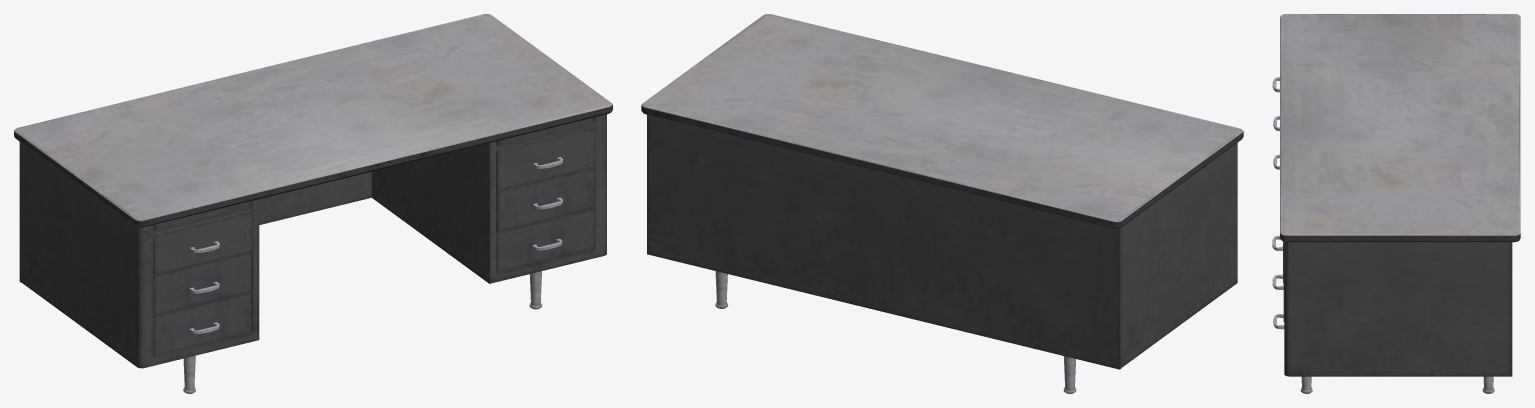
Rendered from office_desk.glb.
3 views of the same model, side by side, from view 1: azimuth 30°, elevation 25°; view 2: azimuth 150°, elevation 25°; view 3: azimuth 270°, elevation 25° (orthographic). The views are drawn at different scales.
Visible parts, largest first — view 1: metal_office_desk_drawer_06; view 2: metal_office_desk_drawer_06; view 3: metal_office_desk_drawer_06.
Boxes of the visible parts, x1,y1,x2,y2 form: metal_office_desk_drawer_06: (14,14,612,393); metal_office_desk_drawer_06: (641,14,1243,393); metal_office_desk_drawer_06: (1272,14,1520,393).
Size of the model in its own units: 2 by 0.7875 by 0.947.
Materials: 1 (1 with a texture image).
